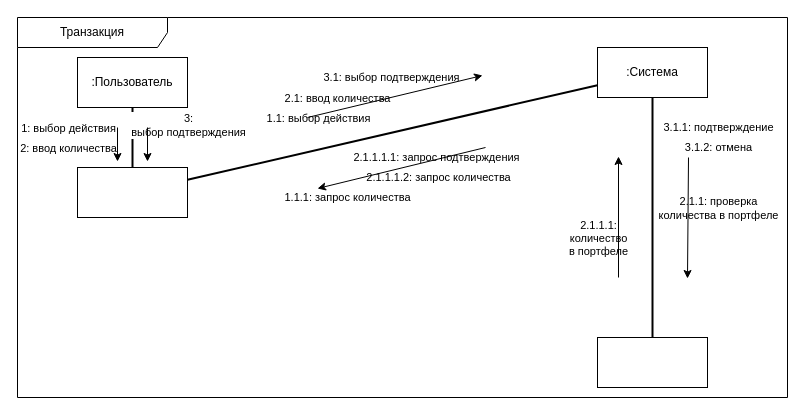
The diagram is 805 pixels wide and 415 high, and some of its shapes have lost their labels. The centre of each missing label's shape, as x and y in pixels:
":Интерфейс" goes at point (132, 192).
":Сервер" goes at point (652, 362).
